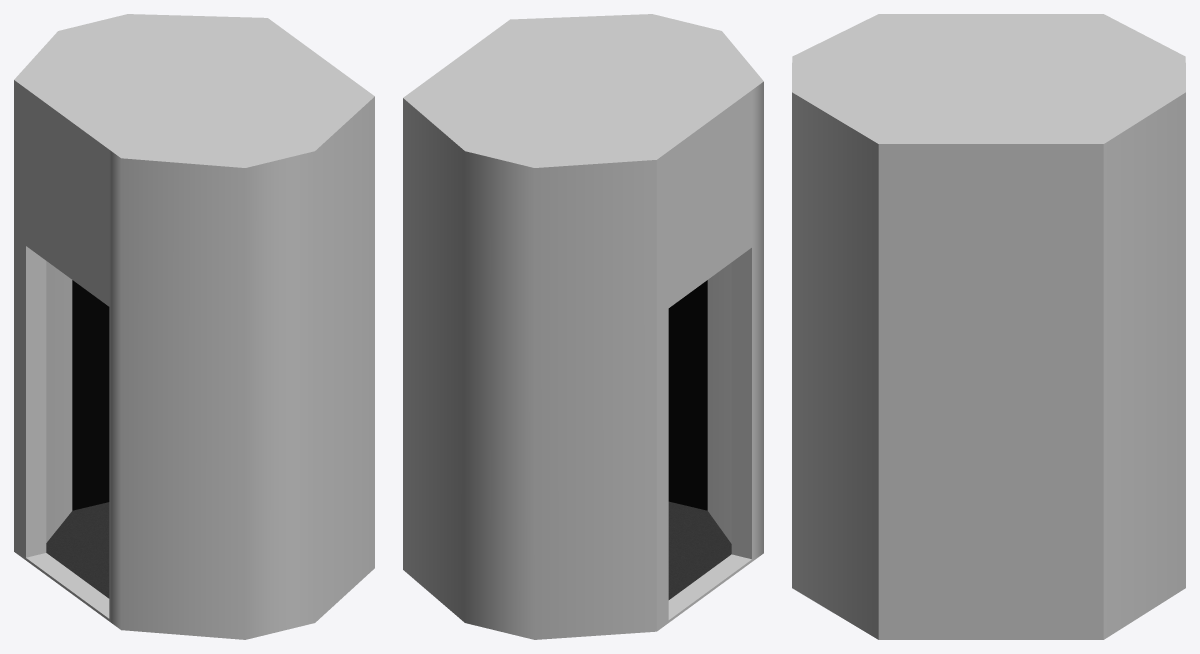
The model's file is Ambargosa_Station_Turbolift.glb.
3 views of the same model, side by side, from view 1: azimuth 30°, elevation 25°; view 2: azimuth 150°, elevation 25°; view 3: azimuth 270°, elevation 25° (orthographic). The views are drawn at different scales.
Visible parts, largest first — view 1: Turbolift; view 2: Turbolift; view 3: Turbolift.
Boxes of the visible parts, x1,y1,x2,y2 form: Turbolift: (14, 14, 374, 639); Turbolift: (403, 14, 763, 639); Turbolift: (792, 14, 1185, 639).
Size of what is drawn, in the model's own units: 2.53 by 4.5 by 3.24.
5 materials, 2 textured.
